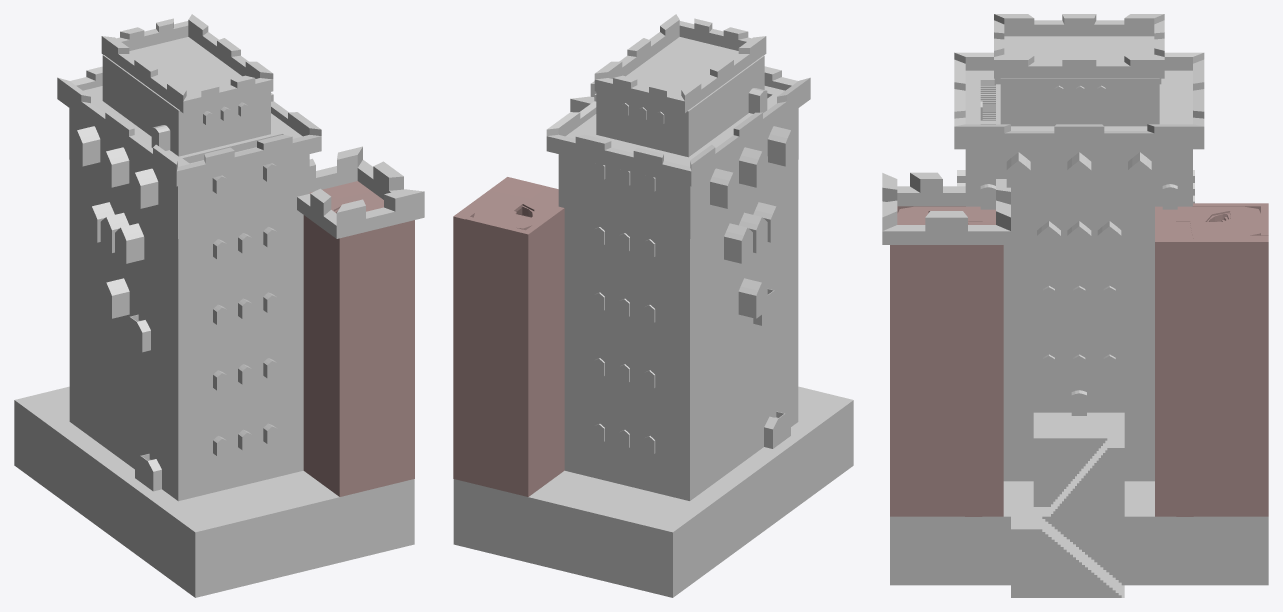
Rendered from inside_cas.glb.
The picture shows the model from 3 angles, left to right: view 1: azimuth 30°, elevation 25°; view 2: azimuth 150°, elevation 25°; view 3: azimuth 270°, elevation 25°; orthographic projection. The views are drawn at different scales.
Visible parts, largest first — view 1: Cube.230, Cylinder.239, Cube.197, Cube.320, Cube.207, Cube.210, Cube.214, Cube.234, Cube.218, Cube.235, Cube.226, Cube.215 (+9 smaller); view 2: Cube.230, Cylinder.239, Cube.197, Cube.320, Cube.207, Cube.210, Cube.214, Cube.234, Cube.218, Cube.235, Cube.215, Cube.219 (+7 smaller); view 3: Cylinder.239, Cube.230, Cube.214, Cube.197, Cube.207, Cube.234, Cube.210, Cube.218, Cube.235, Cube.226, Cube.195, Cube.232 (+11 smaller).
Part boxes in pixels (box(x1,y1,x2,y2)): Cube.230: box(14, 386, 414, 597); Cylinder.239: box(303, 181, 414, 496); Cube.197: box(69, 291, 303, 435); Cube.320: box(69, 356, 303, 501); Cube.207: box(69, 225, 303, 369); Cube.210: box(69, 160, 303, 304); Cube.214: box(69, 86, 309, 238); Cube.234: box(57, 66, 321, 186); Cube.218: box(102, 37, 270, 156); Cube.235: box(101, 14, 273, 113); Cube.226: box(297, 146, 424, 238); Cube.215: box(71, 126, 276, 208); Cube.230: box(453, 386, 853, 597); Cylinder.239: box(453, 177, 564, 496); Cube.197: box(564, 291, 798, 435); Cube.320: box(564, 356, 798, 500); Cube.207: box(564, 225, 798, 369); Cube.210: box(564, 160, 798, 304); Cube.214: box(558, 86, 798, 238); Cube.234: box(546, 66, 810, 186); Cube.218: box(596, 37, 764, 157); Cube.235: box(594, 14, 766, 113); Cube.215: box(594, 126, 796, 208); Cube.219: box(626, 39, 737, 95); Cylinder.239: box(890, 203, 1268, 516); Cube.230: box(890, 481, 1268, 585); Cube.214: box(965, 70, 1192, 206); Cube.197: box(1003, 344, 1154, 412); Cube.207: box(1003, 275, 1154, 343); Cube.234: box(954, 52, 1204, 149); Cube.210: box(1003, 206, 1154, 275); Cube.218: box(1000, 36, 1159, 126); Cube.235: box(994, 14, 1164, 78); Cube.226: box(882, 172, 1010, 244); Cube.195: box(1033, 412, 1124, 506); Cube.232: box(1033, 516, 1124, 597).
Bounding box in the file's own units: 39 × 69.65 × 51.
